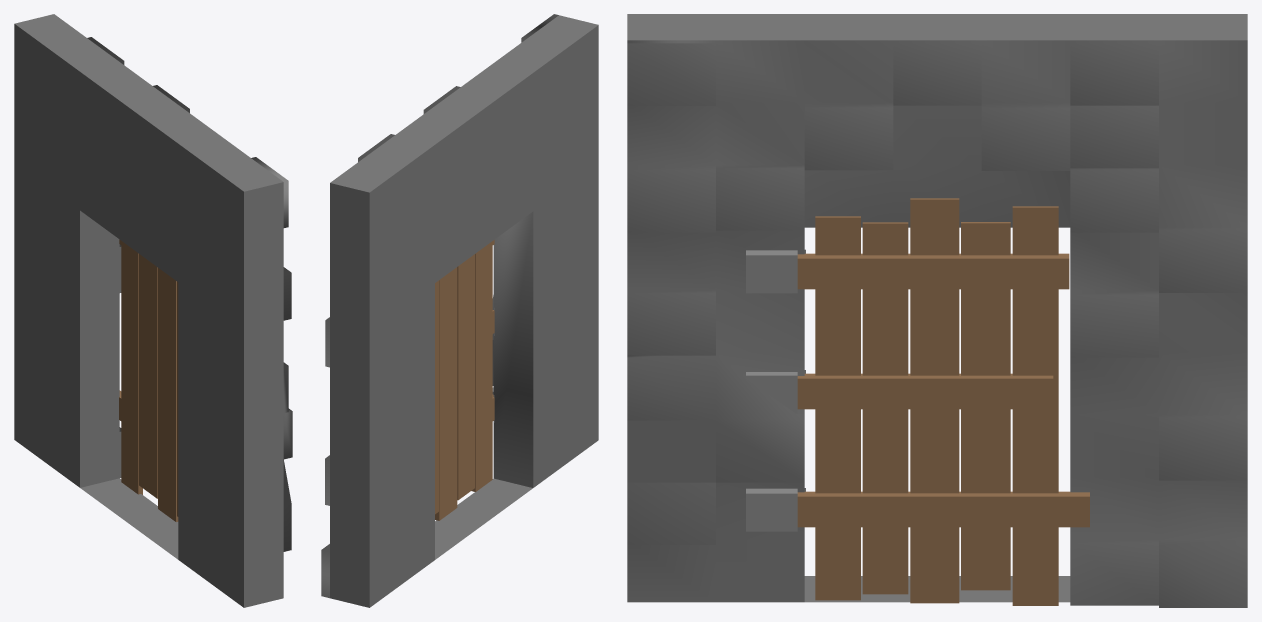
Rendered from porte anim.fbx.
3 views of the same model, side by side, from view 1: azimuth 30°, elevation 25°; view 2: azimuth 150°, elevation 25°; view 3: azimuth 270°, elevation 25° (orthographic). The views are drawn at different scales.
Parts seen in each view (by area): view 1: Cube.001, Cube; view 2: Cube.001, Cube; view 3: Cube.001, Cube, Cube.002.
Boxes of the visible parts, x1,y1,x2,y2 form: Cube.001: (14,14,292,607); Cube: (119,239,178,521); Cube.001: (321,14,598,607); Cube: (435,240,494,520); Cube.001: (627,14,1247,607); Cube: (797,198,1089,605); Cube.002: (746,250,797,531).
Size of the model in its own units: 600 by 73.22 by 603.
